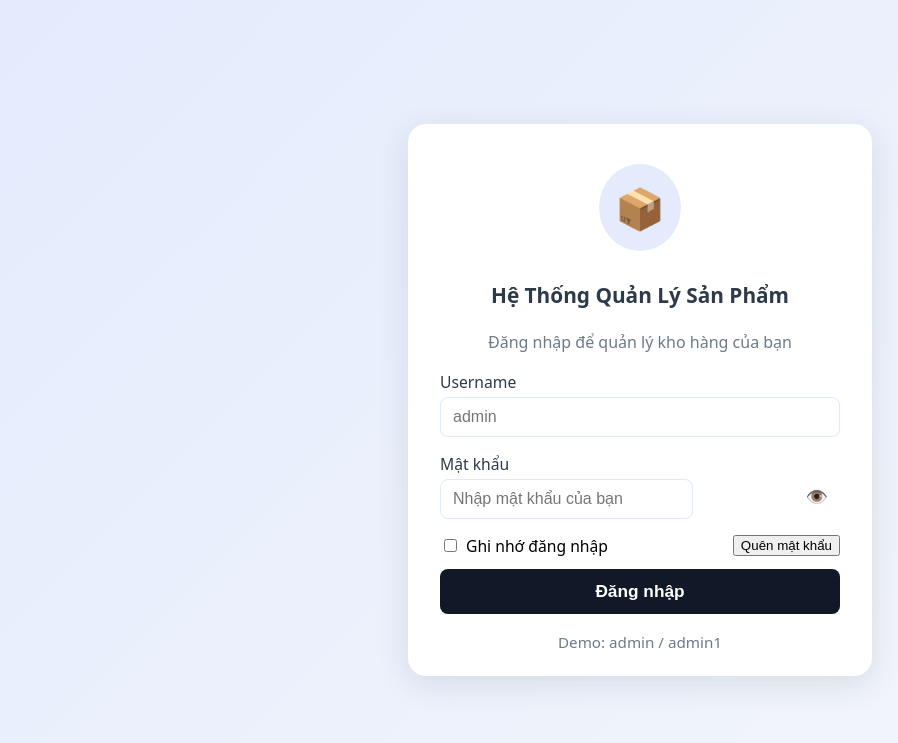
Test: Login Form Validation › shows error when fields are empty
The image size is (898, 743).
Click the button "Đăng nhập": click(640, 591) [440, 569, 840, 614]
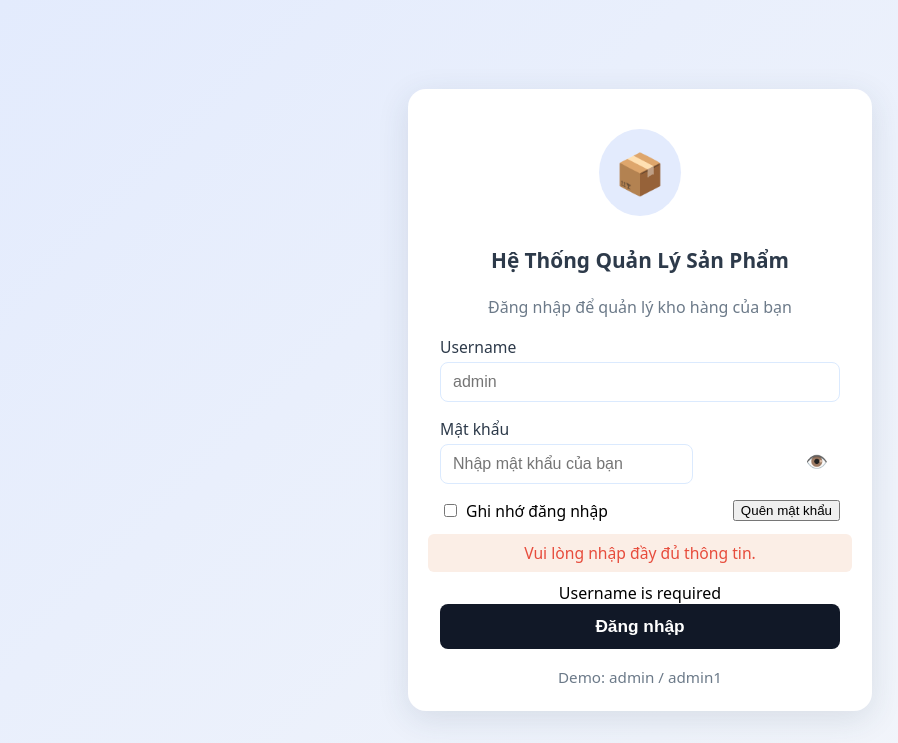
expect the text "Vui lòng nhập đầy đủ thông tin." is shown: met, box [428, 534, 852, 572]
